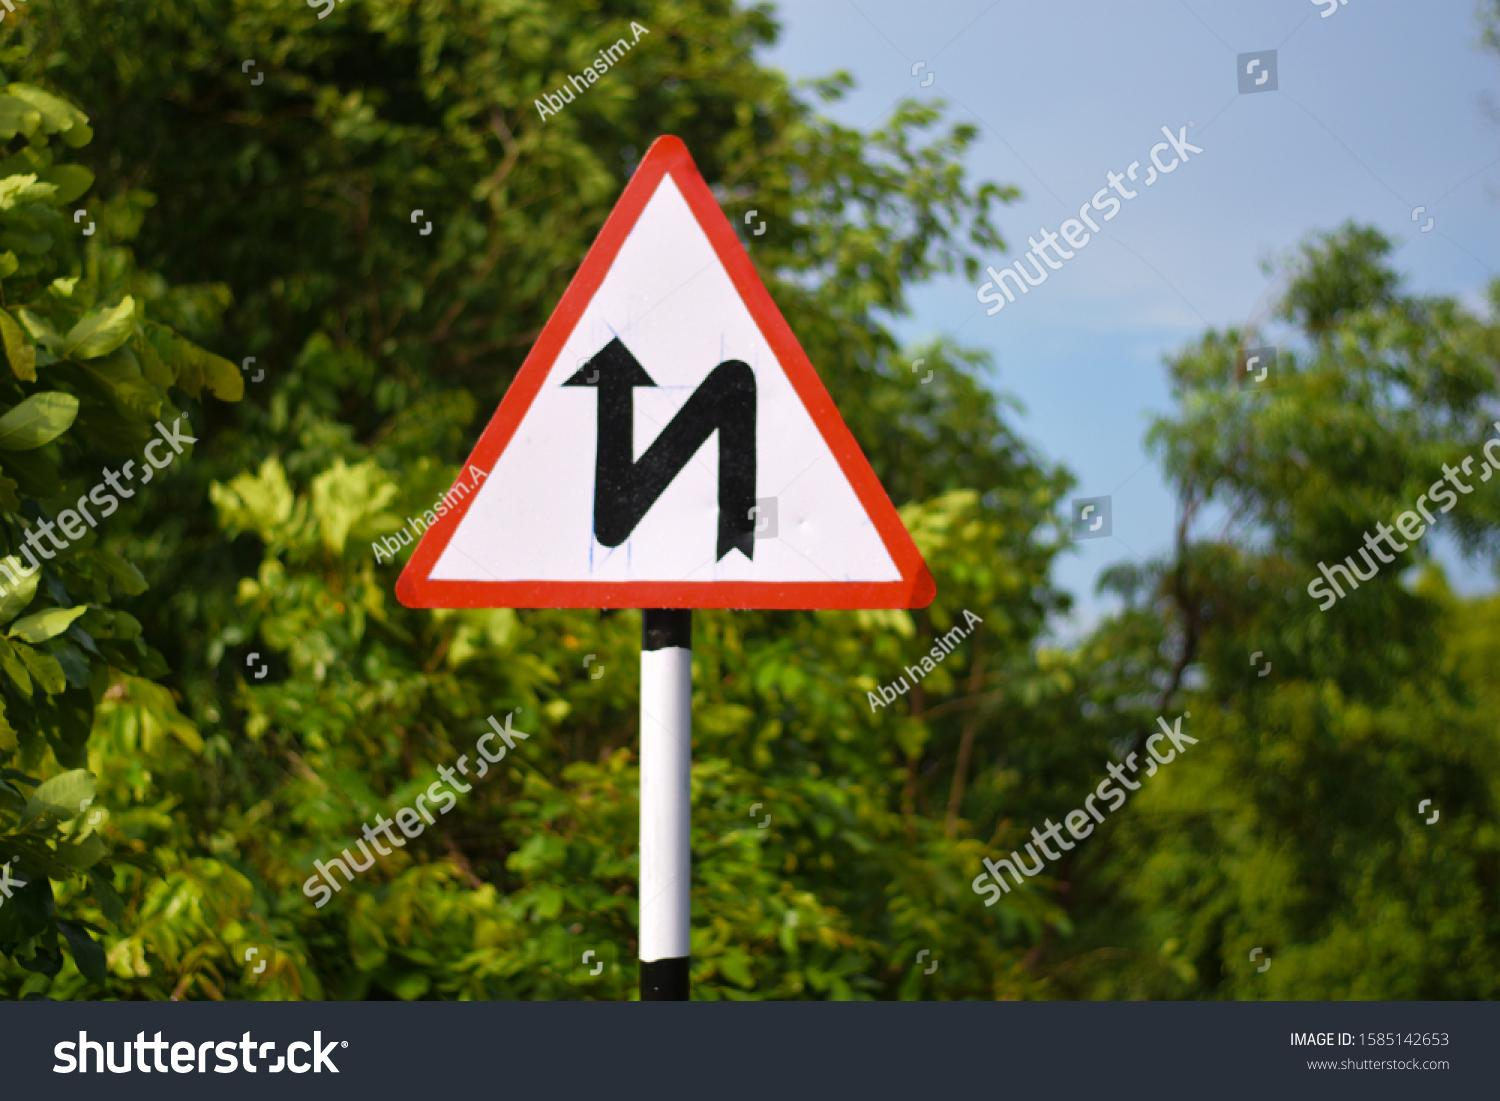Right Reverse Bend: (340, 113, 999, 644)
